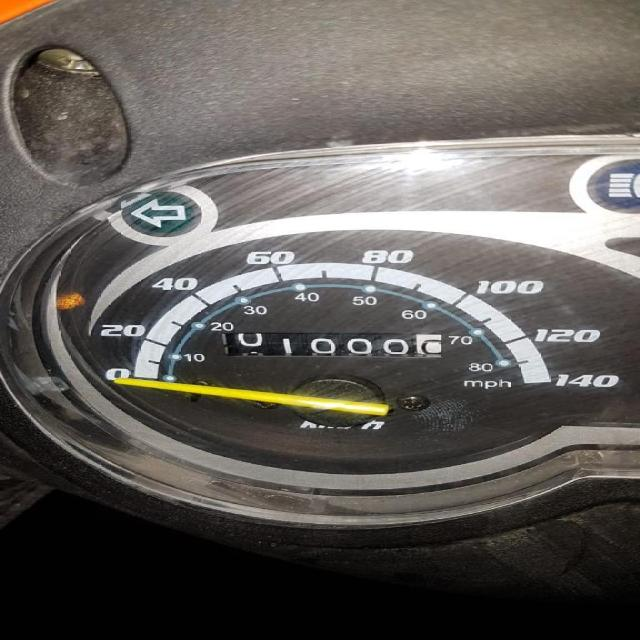odometer: (219, 329, 448, 362)
